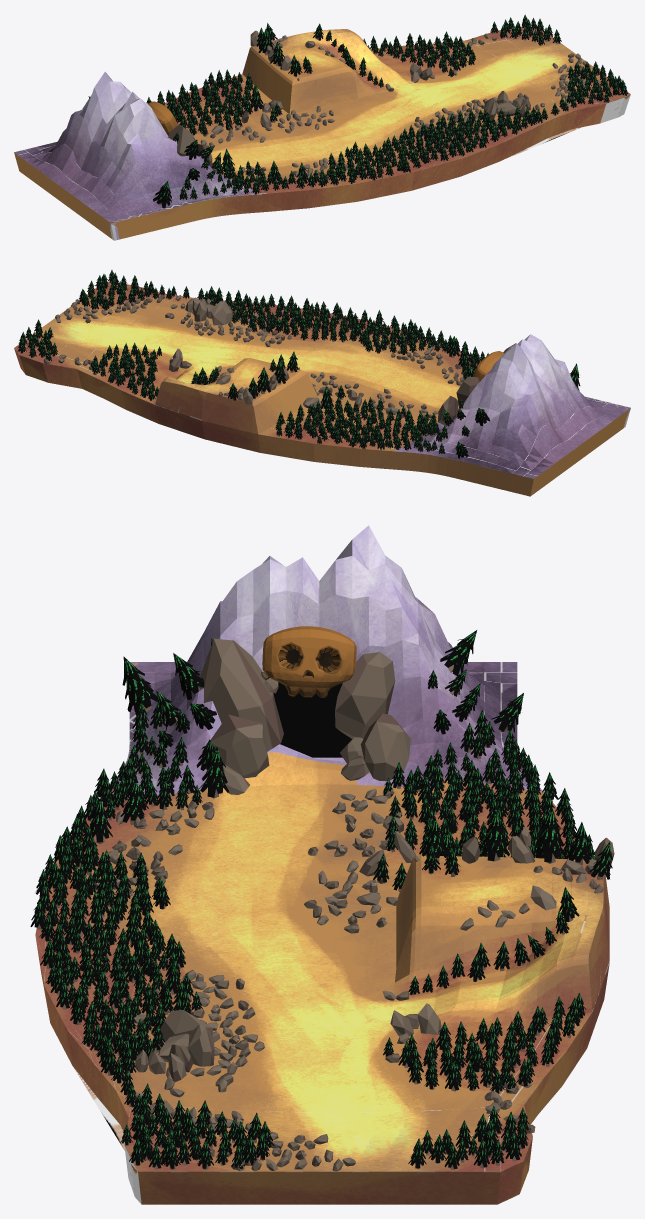
The model's file is Mountain.fbx.
3 views of the same model, one above another, from view 1: azimuth 30°, elevation 25°; view 2: azimuth 150°, elevation 25°; view 3: azimuth 270°, elevation 25° (orthographic). The views are drawn at different scales.
Parts seen in each view (by area): view 1: Landscape.002, Cube.025, Icosphere.212; view 2: Landscape.002, Icosphere.104, Cube.025, Icosphere.162, Icosphere.042; view 3: Landscape.002, Cube.025, Icosphere.212, Plane, Icosphere.042, Icosphere.210, Icosphere.162, Cube.067, Cube.747, Icosphere.109.
Part boxes in pixels (<box>): Landscape.002: <box>14,26,630,240</box>; Cube.025: <box>148,101,177,135</box>; Icosphere.212: <box>168,124,195,156</box>; Landscape.002: <box>14,281,630,496</box>; Icosphere.104: <box>210,301,233,325</box>; Cube.025: <box>472,351,503,381</box>; Icosphere.162: <box>437,396,458,425</box>; Icosphere.042: <box>456,376,479,409</box>; Landscape.002: <box>35,525,609,1204</box>; Cube.025: <box>262,626,356,697</box>; Icosphere.212: <box>200,638,283,751</box>; Plane: <box>265,677,351,757</box>; Icosphere.042: <box>335,652,395,738</box>; Icosphere.210: <box>210,714,269,778</box>; Icosphere.162: <box>360,713,410,781</box>; Cube.067: <box>122,656,158,715</box>; Cube.747: <box>533,807,565,863</box>; Icosphere.109: <box>188,1024,214,1066</box>.
Size of the model in its own units: 12724 by 2654 by 6149.
